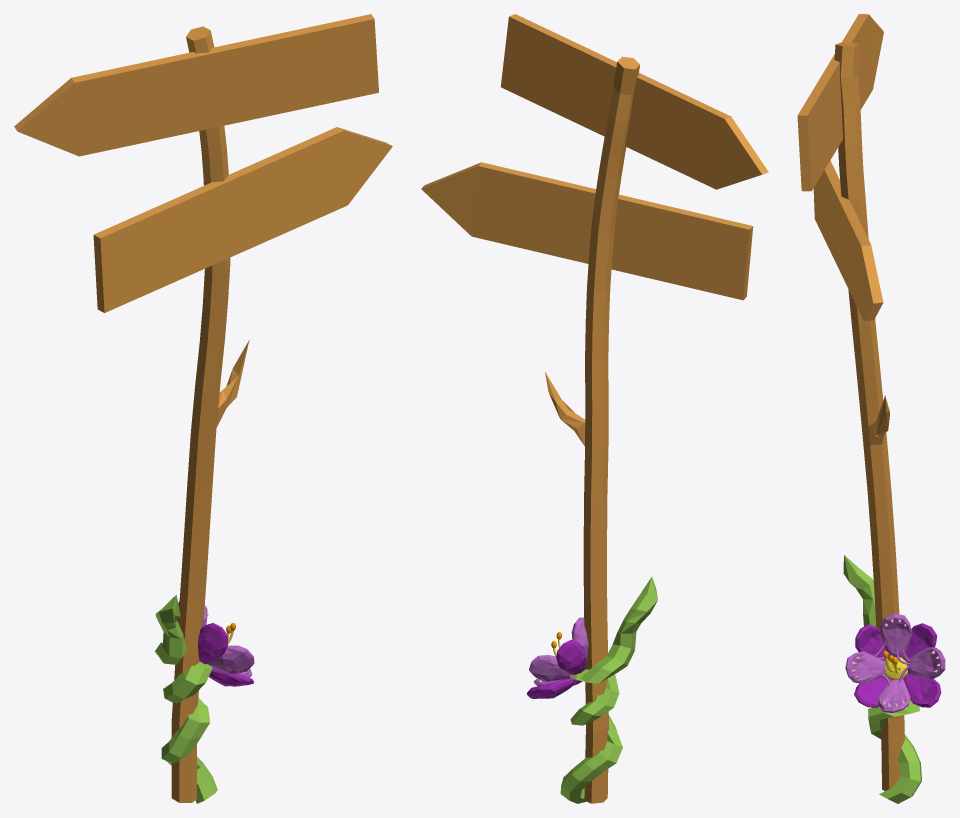
Rendered from roadsign_sollested_ccby.glb.
3 views of the same model, side by side, from view 1: azimuth 30°, elevation 25°; view 2: azimuth 150°, elevation 25°; view 3: azimuth 270°, elevation 25° (orthographic). The views are drawn at different scales.
Parts seen in each view (by area): view 1: group2104059528, group1223301548, group2140241644, group1119336744, group1868935126; view 2: group1223301548, group2104059528, group2140241644, group1119336744, group1868935126; view 3: group2140241644, group1868935126, group2104059528, group1223301548, group1119336744.
Boxes of the visible parts, x1,y1,x2,y2 form: group2104059528: [14, 14, 378, 156]; group1223301548: [93, 127, 392, 312]; group2140241644: [171, 26, 249, 802]; group1119336744: [155, 595, 217, 803]; group1868935126: [177, 601, 254, 686]; group1223301548: [421, 162, 753, 300]; group2104059528: [500, 14, 768, 189]; group2140241644: [545, 56, 639, 803]; group1119336744: [560, 576, 657, 803]; group1868935126: [527, 617, 588, 698]; group2140241644: [834, 42, 904, 790]; group1868935126: [845, 613, 945, 712]; group2104059528: [797, 14, 883, 191]; group1223301548: [813, 160, 883, 321]; group1119336744: [843, 555, 921, 803].
Size of the model in its own units: 1.18 by 2.4 by 0.4297.
